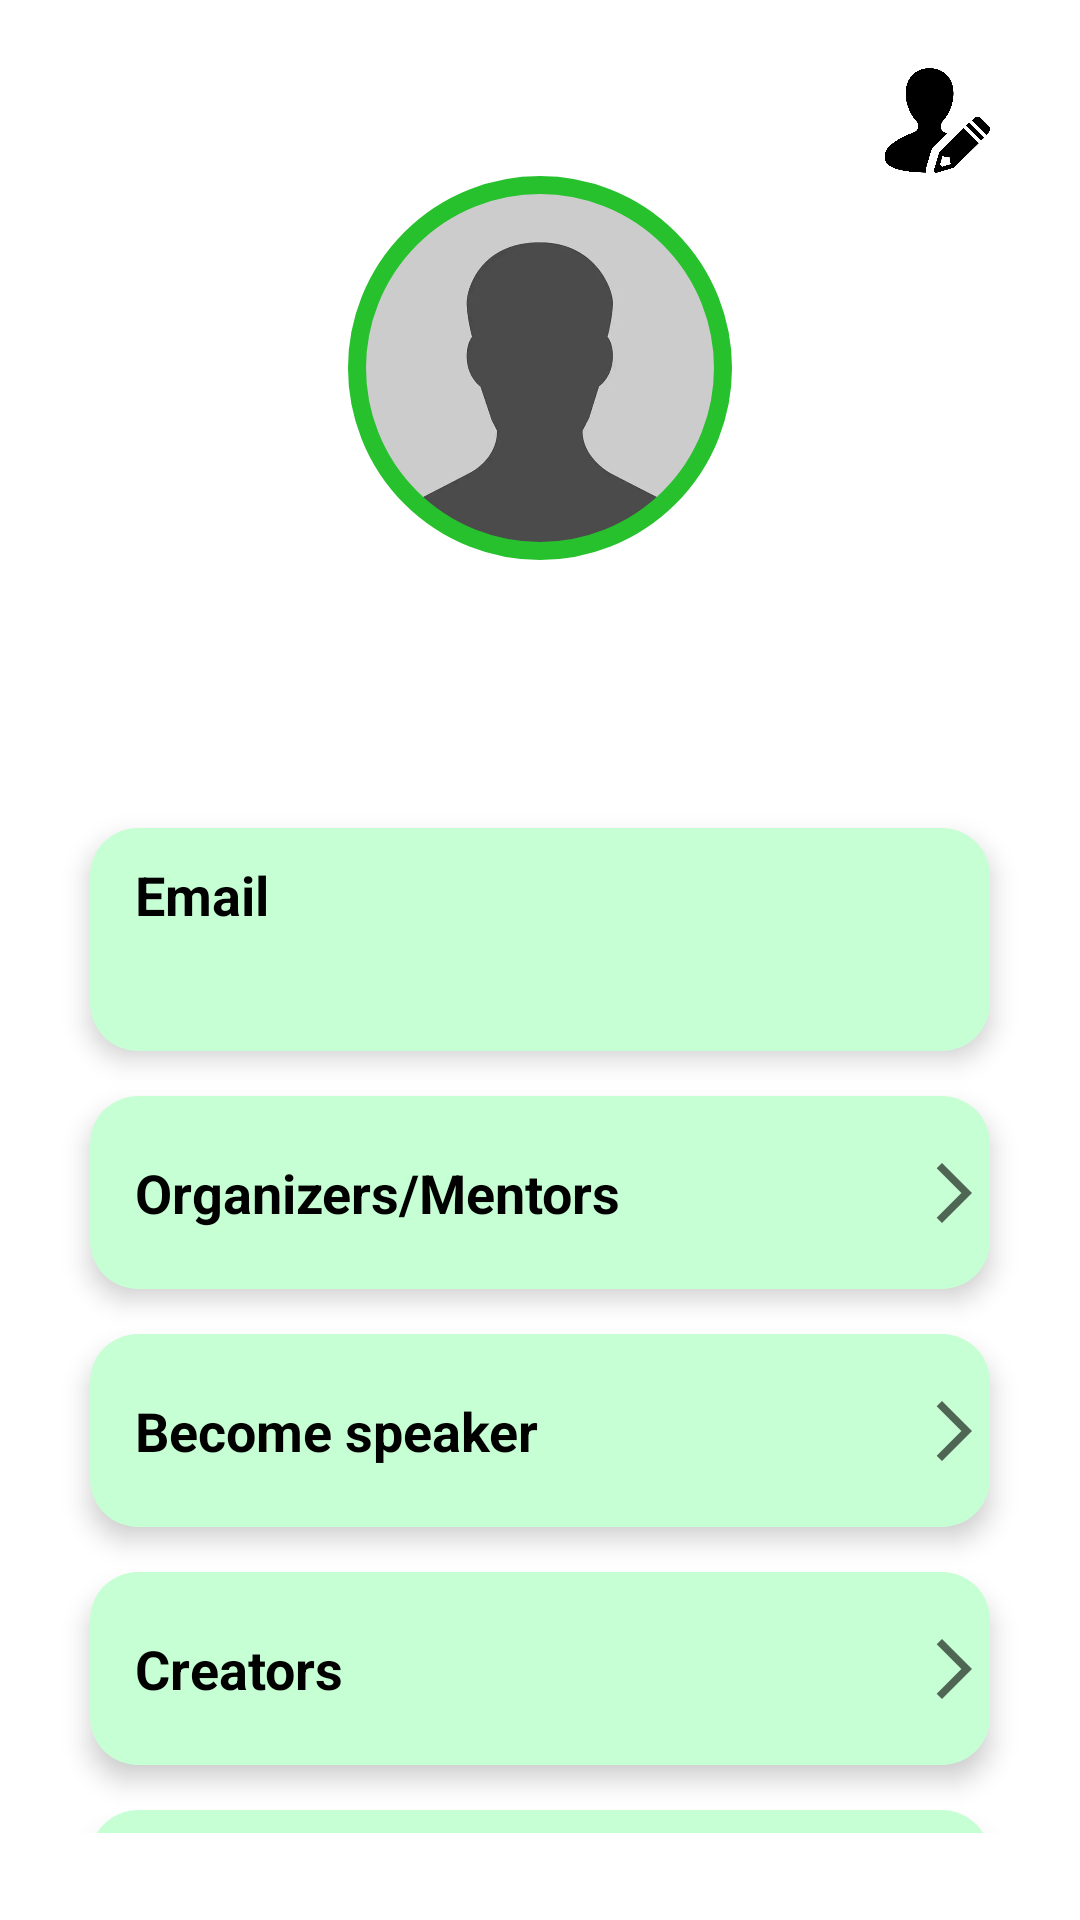

Named icons in this screenshot (1080*1920) and their centers, (x=x, y=y):
arrow forward: (x=954, y=1193), (x=954, y=1431), (x=954, y=1669)
prof edit: (x=937, y=120)
